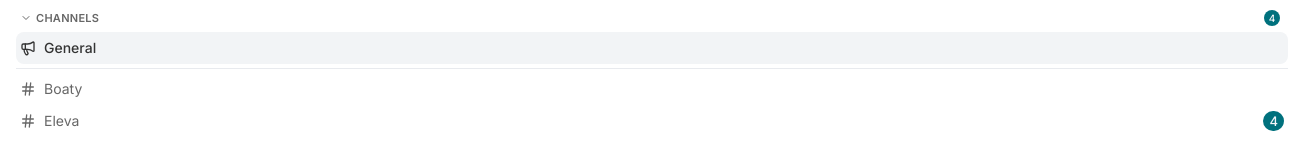
it: la sección › se pliega pulsando la cabecera, y se recuerda por org
Click the button "Channels 4" at x=68, y=18, box [12, 10, 1288, 26]
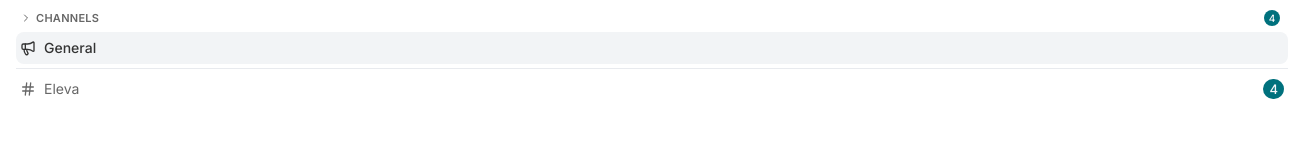
Result: the button "Boaty" is gone
